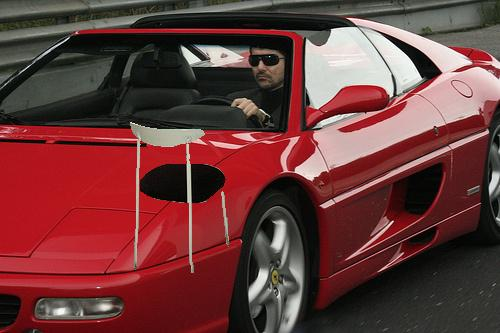tampered: (131, 123, 229, 273)
